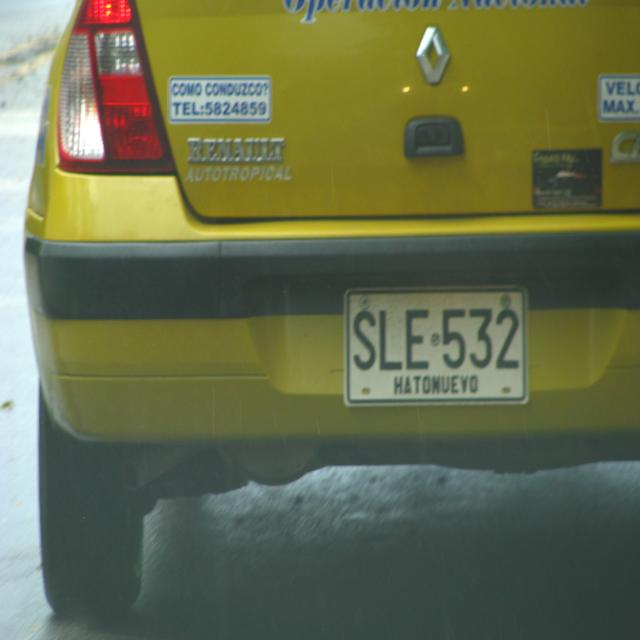placa: (339, 280, 532, 408)
